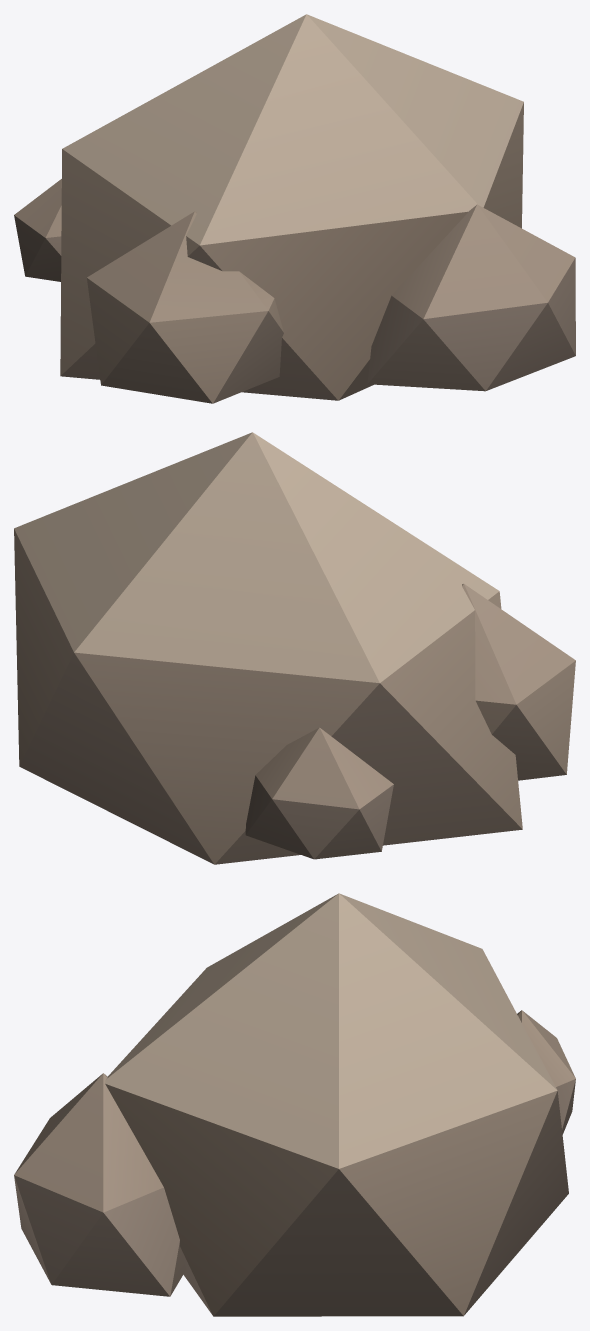
File: rocks_1.glb
3 views of the same model, one above another, from view 1: azimuth 30°, elevation 25°; view 2: azimuth 150°, elevation 25°; view 3: azimuth 270°, elevation 25° (orthographic). The views are drawn at different scales.
Parts seen in each view (by area): view 1: rocks_1; view 2: rocks_1; view 3: rocks_1.
Boxes of the visible parts, x1=… form: rocks_1: x1=14, y1=14, x2=575, y2=403; rocks_1: x1=14, y1=432, x2=575, y2=864; rocks_1: x1=14, y1=893, x2=575, y2=1316.
Size of the model in its own units: 4.32 by 2.69 by 4.06.
